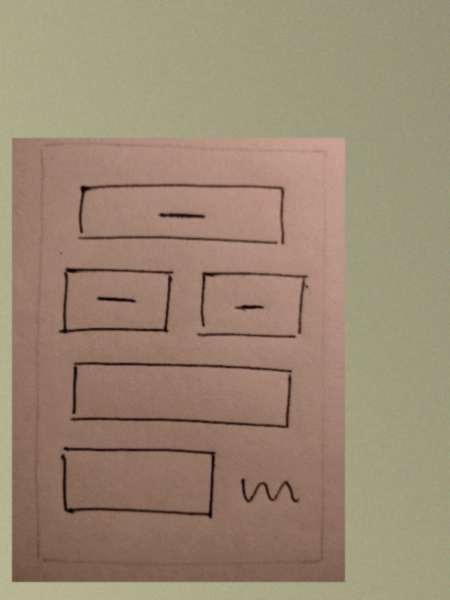button: (71, 174, 292, 251), (55, 260, 180, 339), (194, 263, 312, 346)
text: (235, 472, 314, 518)
text_input: (63, 354, 300, 437), (54, 442, 226, 525)
